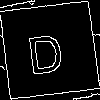D: (24, 25, 66, 75)
